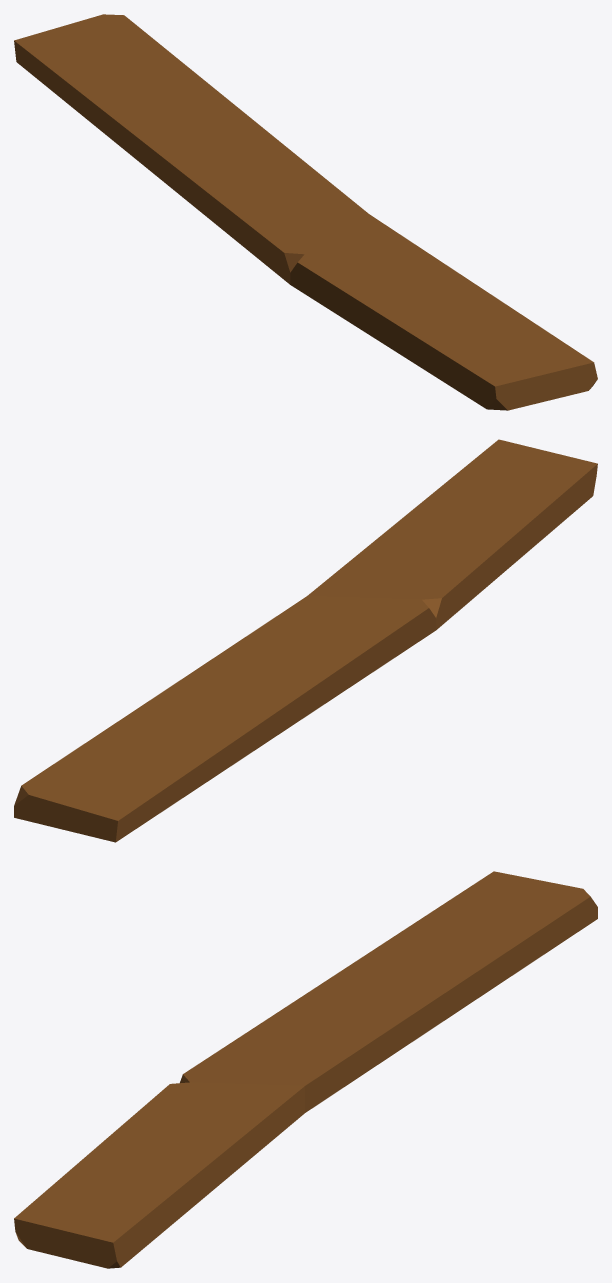
The model's file is Plank.002.fbx.
3 renders of one model, top to bottom at view 1: azimuth 30°, elevation 25°; view 2: azimuth 150°, elevation 25°; view 3: azimuth 330°, elevation 25°, orthographic.
Parts seen in each view (by area): view 1: Plank.002; view 2: Plank.002; view 3: Plank.002.
Boxes of the visible parts, <box> form: Plank.002: <box>14,14,597,410</box>; Plank.002: <box>14,439,597,842</box>; Plank.002: <box>14,871,597,1268</box>.
Size of the model in its own units: 0.2396 by 0.05 by 1.6.
